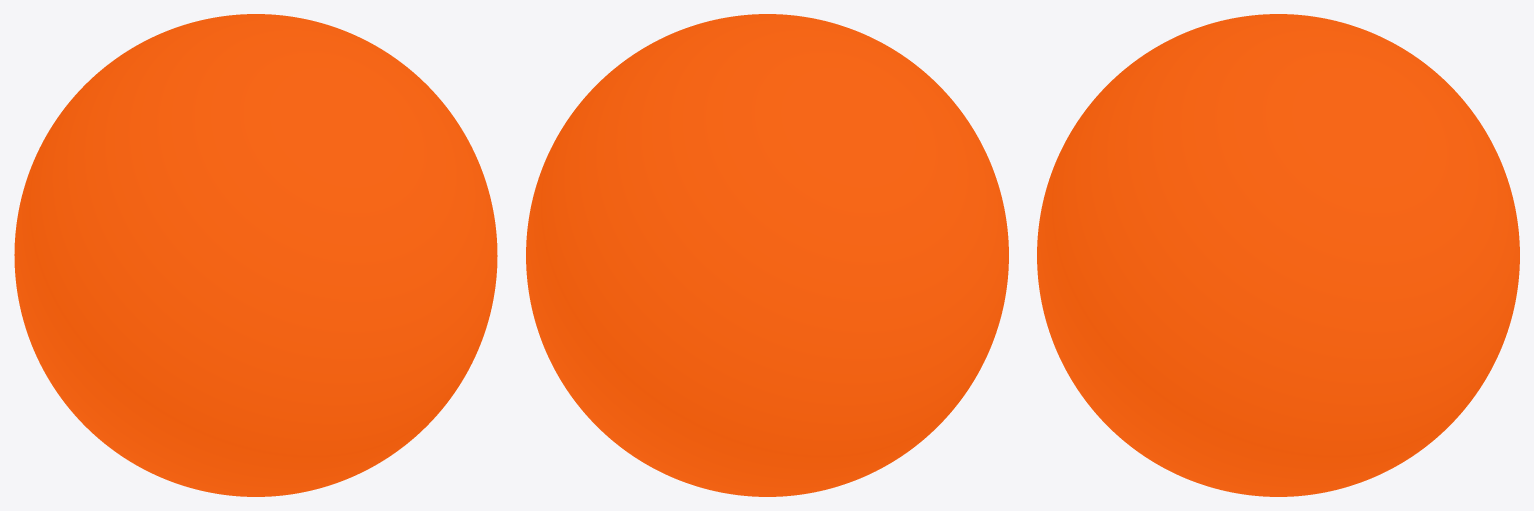
The model's file is sol.glb.
3 views of the same model, side by side, from view 1: azimuth 30°, elevation 25°; view 2: azimuth 150°, elevation 25°; view 3: azimuth 270°, elevation 25° (orthographic).
Parts seen in each view (by area): view 1: Icosphere.013; view 2: Icosphere.013; view 3: Icosphere.013.
Part boxes in pixels (bbox=[...]): Icosphere.013: bbox=[14, 14, 497, 496]; Icosphere.013: bbox=[526, 14, 1008, 496]; Icosphere.013: bbox=[1037, 14, 1519, 496].
Size of the model in its own units: 2.18 by 2.18 by 2.18.
